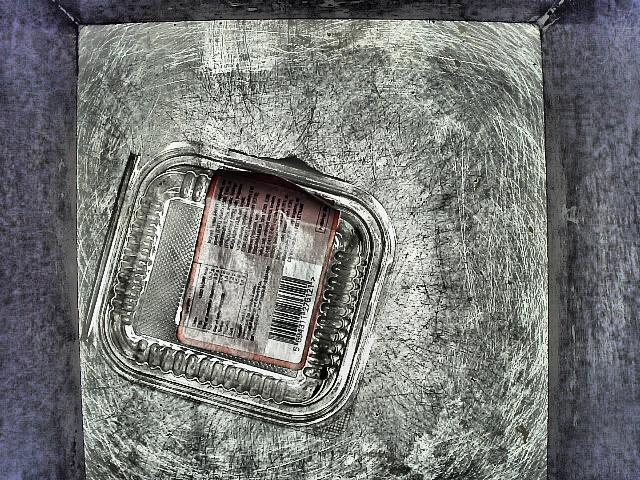Plastic: (80, 139, 399, 424)
